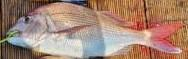fish: (7, 2, 185, 56)
